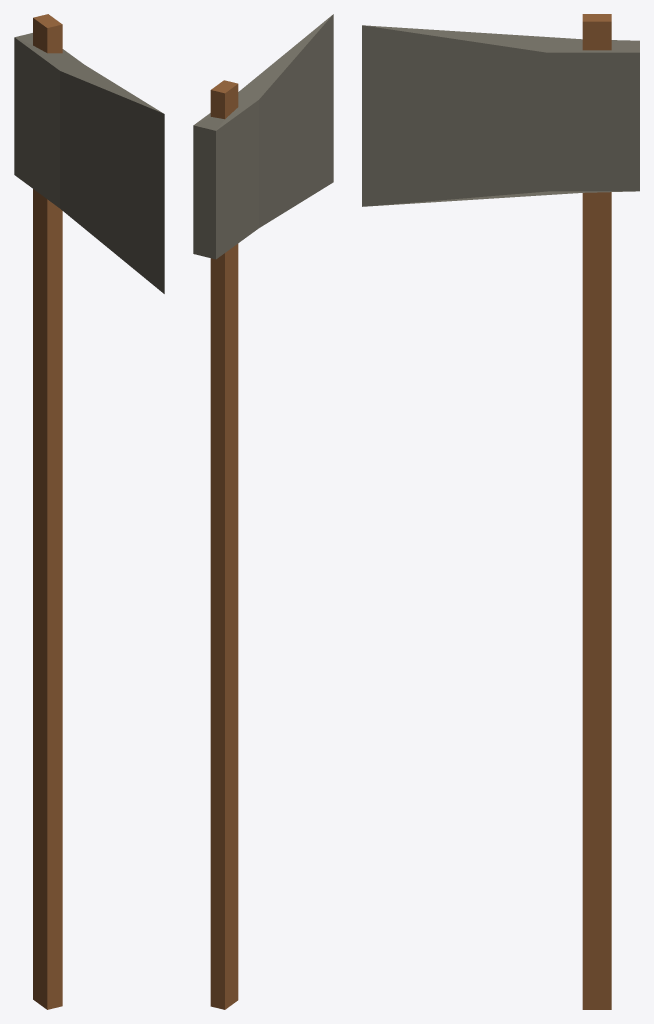
The model's file is Axe.fbx.
3 renders of one model, left to right at view 1: azimuth 30°, elevation 25°; view 2: azimuth 150°, elevation 25°; view 3: azimuth 270°, elevation 25°, orthographic. The views are drawn at different scales.
Parts seen in each view (by area): view 1: Axe; view 2: Axe; view 3: Axe.
Part boxes in pixels (x1=…): Axe: x1=14, y1=14, x2=164, y2=1009; Axe: x1=193, y1=14, x2=333, y2=1009; Axe: x1=362, y1=14, x2=639, y2=1009.
Bounding box in the file's own units: 2.93 × 111 × 28.27.
